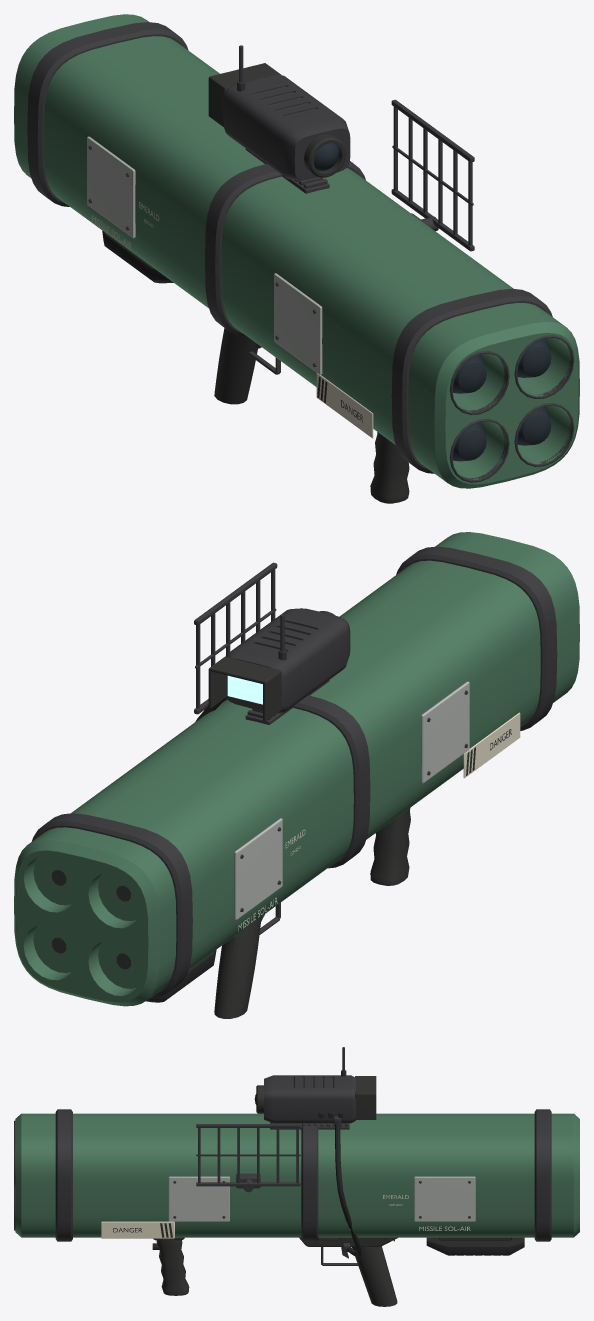
File: emerald.glb
3 views of the same model, one above another, from view 1: azimuth 30°, elevation 25°; view 2: azimuth 150°, elevation 25°; view 3: azimuth 270°, elevation 25° (orthographic). The views are drawn at different scales.
Parts seen in each view (by area): view 1: Body; view 2: Body; view 3: Body.
Boxes of the visible parts, <box> form: Body: <box>14,14,579,503</box>; Body: <box>14,532,579,1018</box>; Body: <box>14,1047,579,1306</box>.
Size of the model in its own units: 0.221 by 0.4465 by 0.922.
